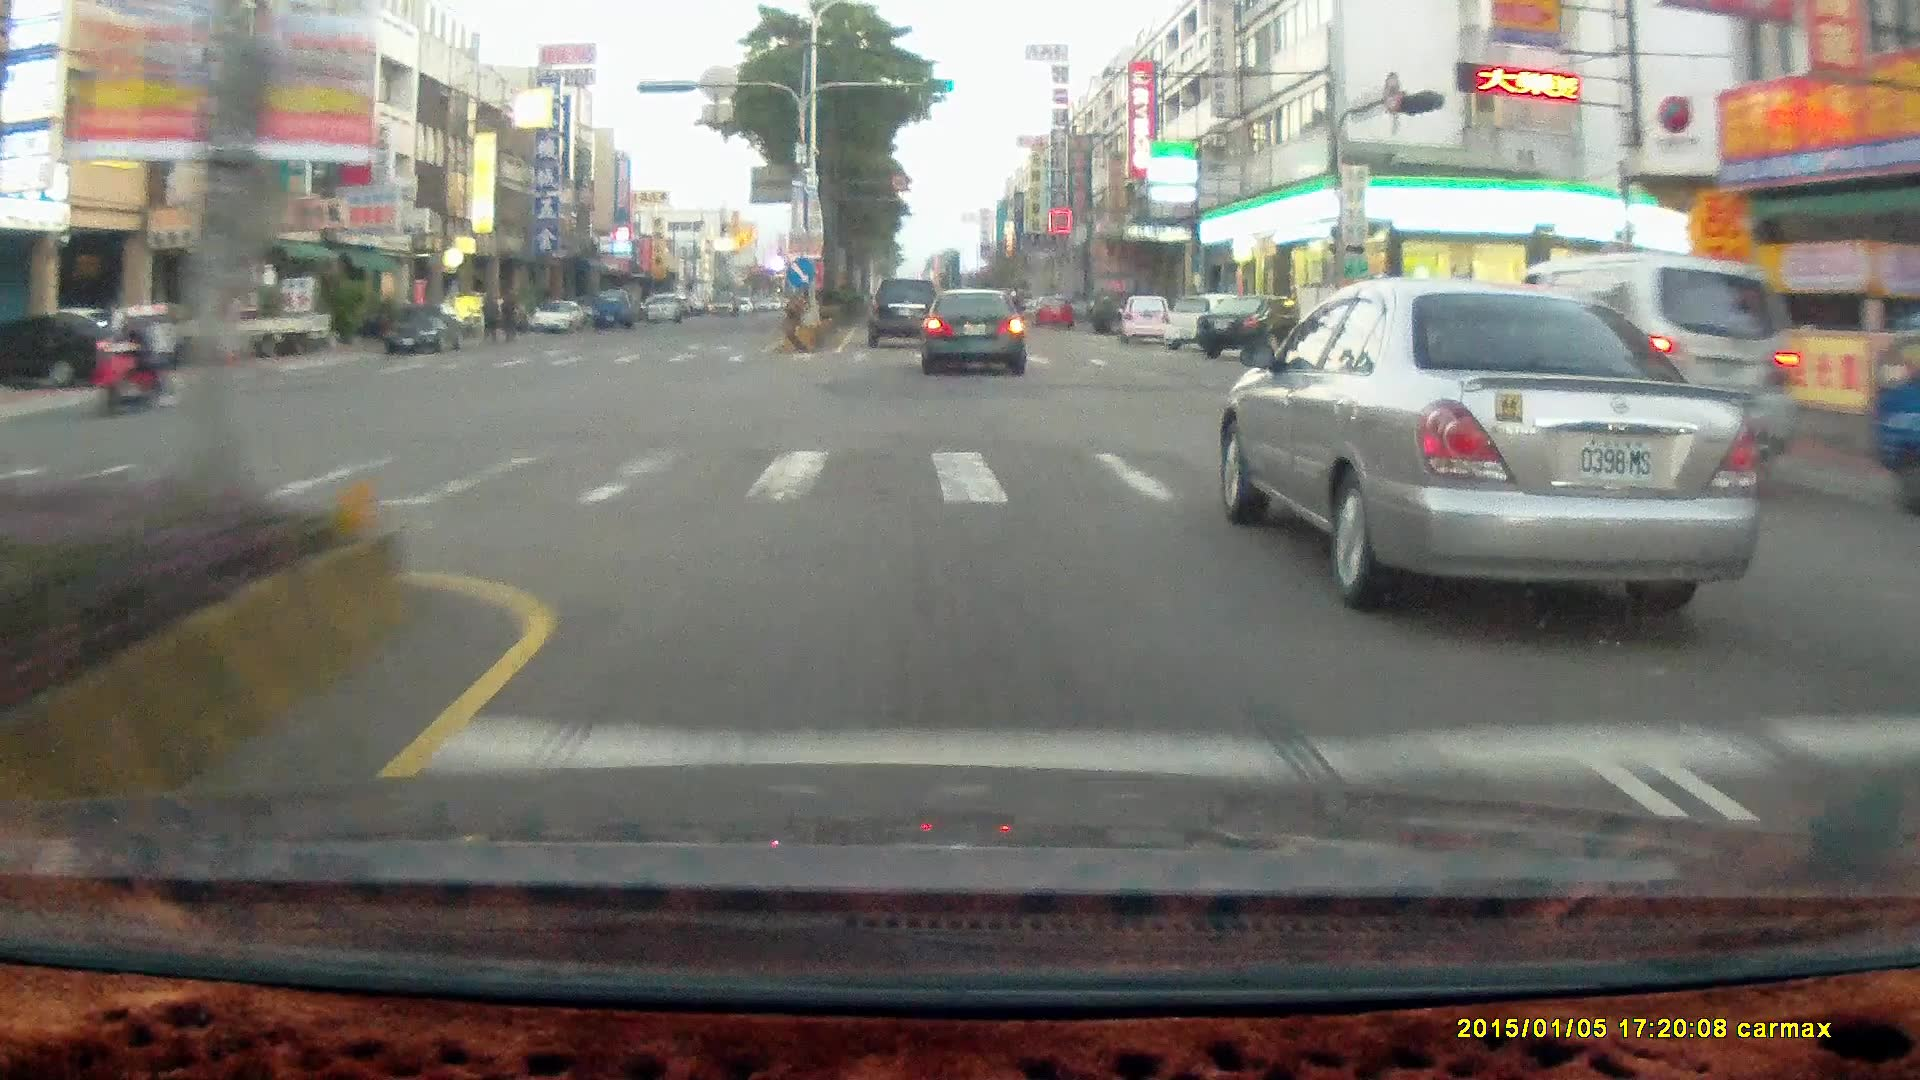pedestrian: (501, 281, 524, 340), (479, 286, 501, 343), (478, 288, 499, 344), (498, 289, 519, 344)
rider: (83, 305, 178, 416)
vehicle: (1223, 282, 1761, 602), (1462, 250, 1800, 497), (1460, 256, 1808, 482), (1, 310, 160, 390), (182, 293, 338, 370), (164, 290, 330, 361), (1869, 315, 1920, 518), (0, 310, 132, 386), (924, 291, 1033, 382), (921, 286, 1026, 376), (1194, 291, 1318, 357), (1198, 295, 1305, 361), (864, 275, 939, 351), (1164, 292, 1255, 351), (378, 299, 470, 359), (866, 276, 942, 347), (385, 306, 462, 352), (1114, 296, 1174, 347), (1088, 289, 1155, 333), (1120, 295, 1175, 347), (528, 299, 588, 336), (528, 299, 582, 332), (592, 288, 631, 326), (1031, 293, 1073, 327), (642, 293, 677, 321)
